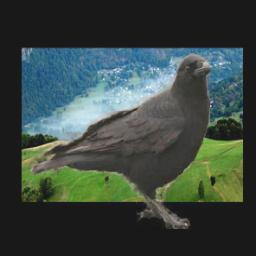Crow: (30, 54, 210, 230)
